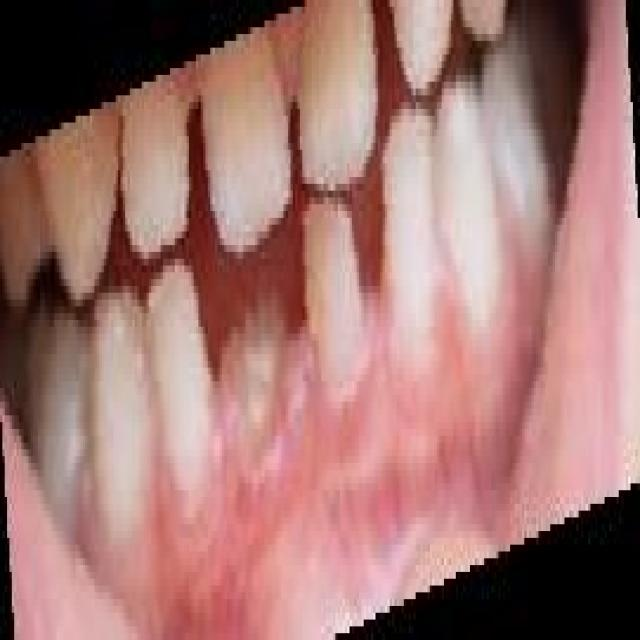caries: (226, 276, 299, 462)
